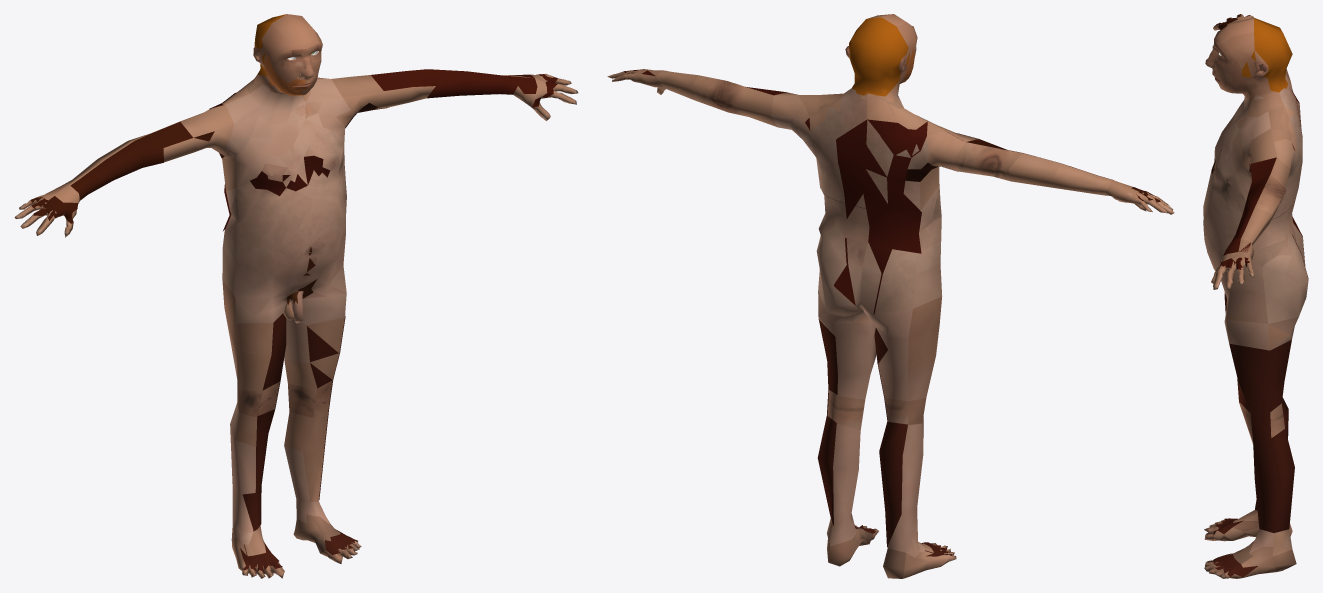
The model's file is spypersonnageetrigging.fbx.
The picture shows the model from 3 angles, left to right: view 1: azimuth 30°, elevation 25°; view 2: azimuth 150°, elevation 25°; view 3: azimuth 270°, elevation 25°; orthographic projection.
Visible parts, largest first — view 1: Corps en entier., jambes, Avnt bras Gauche, avntBrasDroit, torse; view 2: Corps en entier., dos, jambes, Cheveux; view 3: Corps en entier., jambes, Cheveux, avntBrasDroit.
Part boxes in pixels (bbox=[...]): Corps en entier.: bbox=[14, 14, 578, 578]; jambes: bbox=[240, 313, 357, 572]; Avnt bras Gauche: bbox=[31, 122, 214, 223]; avntBrasDroit: bbox=[371, 69, 557, 107]; torse: bbox=[250, 155, 330, 196]; Corps en entier.: bbox=[607, 14, 1174, 578]; dos: bbox=[805, 118, 927, 314]; jambes: bbox=[817, 319, 952, 556]; Cheveux: bbox=[849, 17, 910, 96]; Corps en entier.: bbox=[1203, 14, 1308, 578]; jambes: bbox=[1213, 294, 1294, 577]; Cheveux: bbox=[1242, 18, 1292, 92]; avntBrasDroit: bbox=[1219, 157, 1276, 269].
Bounding box in the file's own units: 1659 × 1538 × 274.
